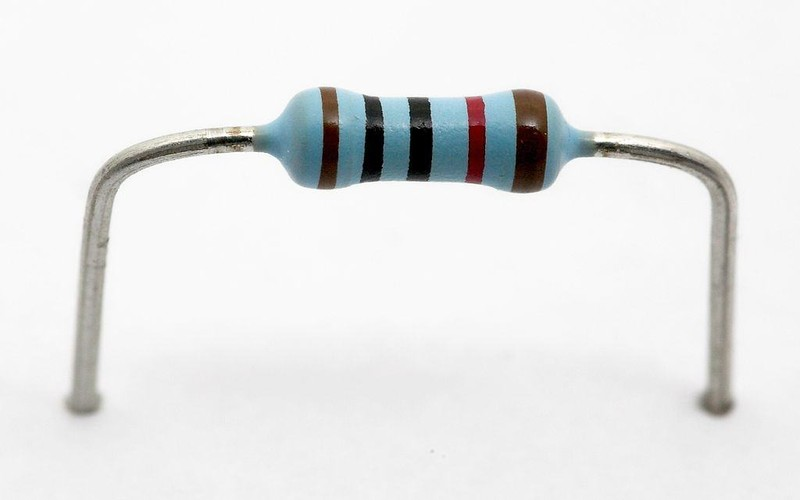Resistor: (260, 62, 591, 211)
